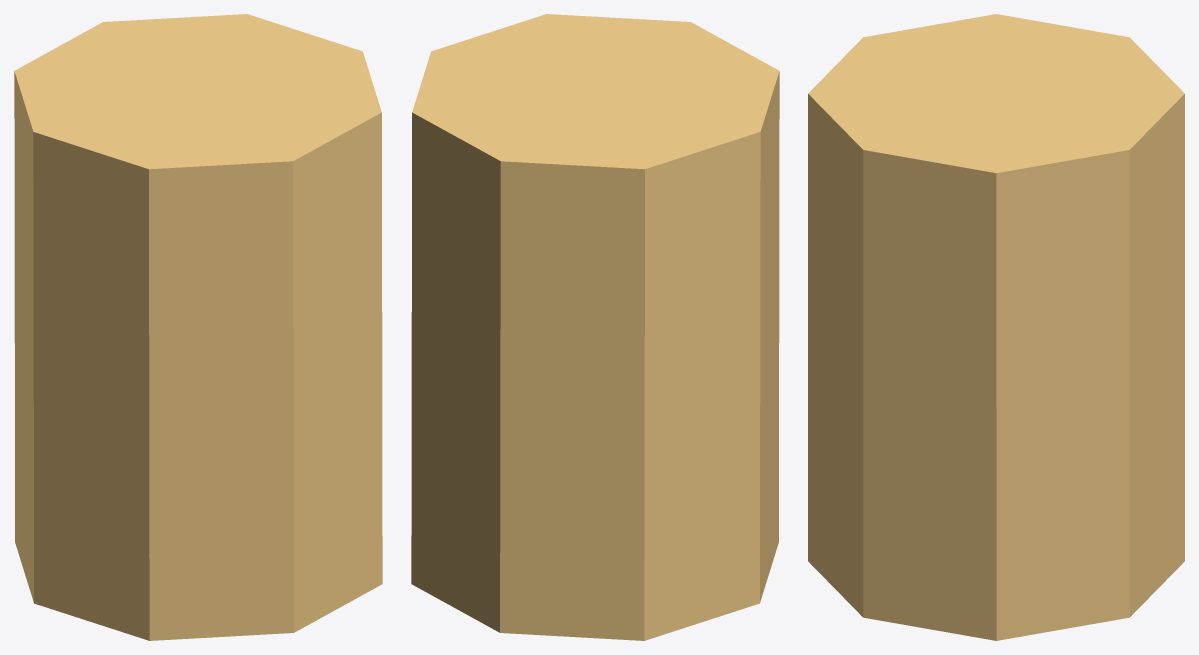
File: Itr_Obj_Dispenser_Sauce_07.FBX
3 renders of one model, left to right at view 1: azimuth 30°, elevation 25°; view 2: azimuth 150°, elevation 25°; view 3: azimuth 270°, elevation 25°, orthographic.
Visible parts, largest first — view 1: Itr_Obj_Dispenser_Sauce_07; view 2: Itr_Obj_Dispenser_Sauce_07; view 3: Itr_Obj_Dispenser_Sauce_07.
Part boxes in pixels (box(x1,y1,x2,y2)): Itr_Obj_Dispenser_Sauce_07: box(14, 14, 382, 640); Itr_Obj_Dispenser_Sauce_07: box(411, 14, 779, 640); Itr_Obj_Dispenser_Sauce_07: box(808, 14, 1184, 640).
Bounding box in the file's own units: 3.78 × 5.16 × 3.77.
